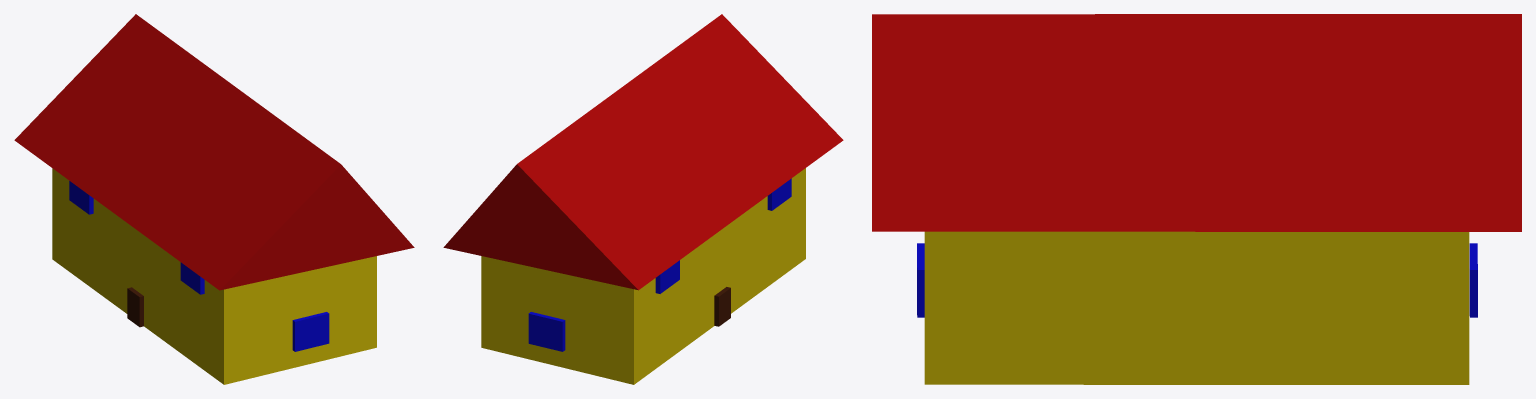
Rendered from polyhouse.obj.
3 views of the same model, side by side, from view 1: azimuth 30°, elevation 25°; view 2: azimuth 150°, elevation 25°; view 3: azimuth 270°, elevation 25° (orthographic). The views are drawn at different scales.
Parts seen in each view (by area): view 1: Cube.001, Cube, Cube.006, Cube.002, Cube.003, Cube.004; view 2: Cube.001, Cube, Cube.005, Cube.002, Cube.003, Cube.004; view 3: Cube.001, Cube, Cube.005, Cube.006.
Boxes of the visible parts, x1,y1,x2,y2 form: Cube.001: [14, 14, 414, 290]; Cube: [52, 168, 376, 384]; Cube.006: [292, 312, 329, 351]; Cube.002: [127, 287, 143, 327]; Cube.003: [69, 181, 93, 214]; Cube.004: [180, 262, 204, 294]; Cube.001: [443, 14, 843, 290]; Cube: [481, 168, 805, 384]; Cube.005: [528, 312, 565, 351]; Cube.002: [714, 287, 730, 326]; Cube.003: [655, 260, 679, 293]; Cube.004: [767, 178, 791, 210]; Cube.001: [872, 14, 1521, 231]; Cube: [924, 231, 1469, 384]; Cube.005: [1469, 243, 1477, 317]; Cube.006: [917, 243, 924, 317].
Bounding box in the file's own units: 3.21 × 3.28 × 5.84.
